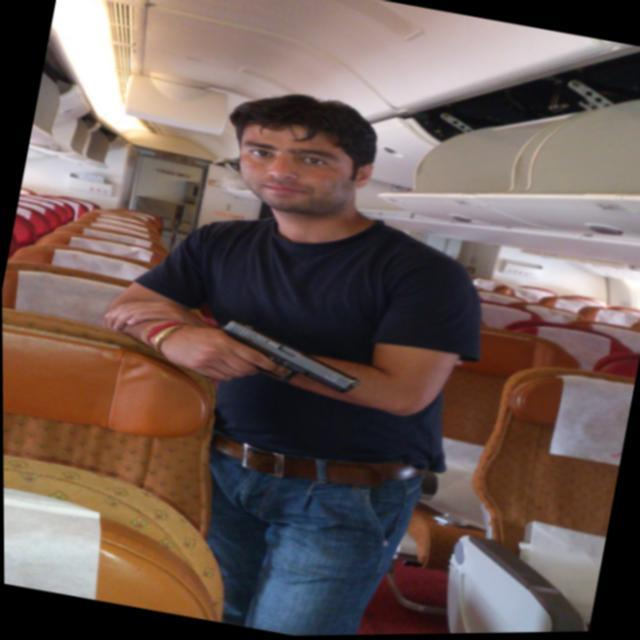weapon: (186, 312, 371, 410)
